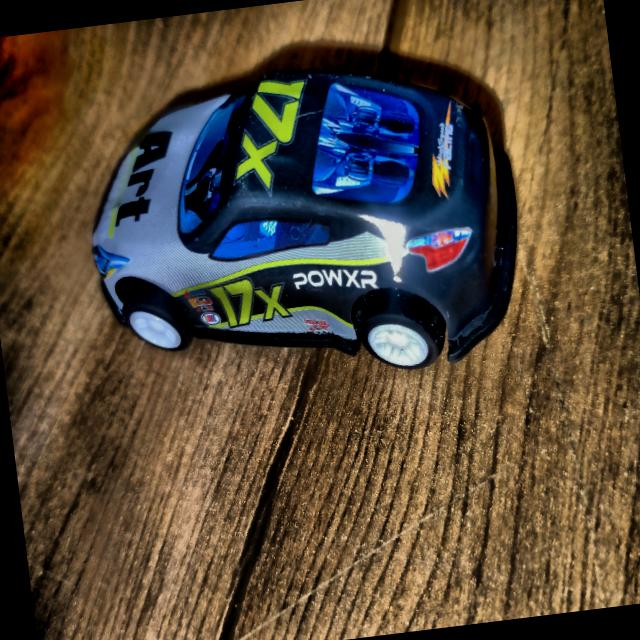Car: (75, 46, 533, 404)
